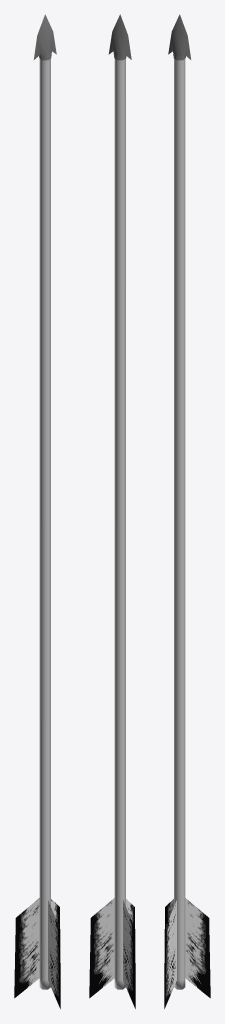
File: arrow_scale.fbx
3 views of the same model, side by side, from view 1: azimuth 30°, elevation 25°; view 2: azimuth 150°, elevation 25°; view 3: azimuth 330°, elevation 25° (orthographic).
Parts seen in each view (by area): view 1: ArrowScale; view 2: ArrowScale; view 3: ArrowScale.
Boxes of the visible parts, left/top/right/bottom form: ArrowScale: left=14, top=14, right=60, bottom=1008; ArrowScale: left=89, top=14, right=135, bottom=1008; ArrowScale: left=164, top=14, right=210, bottom=1008.
Size of the model in its own units: 0.1543 by 3.61 by 0.1781.
